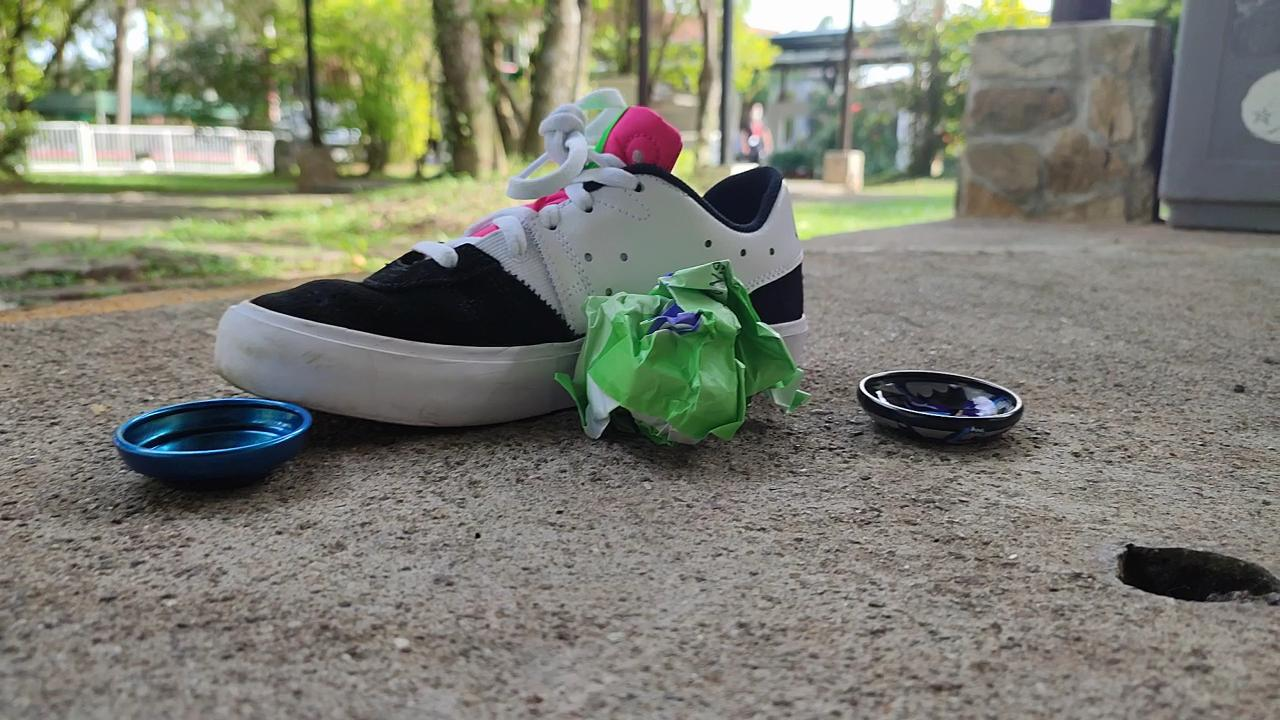Paper: (539, 251, 817, 453)
